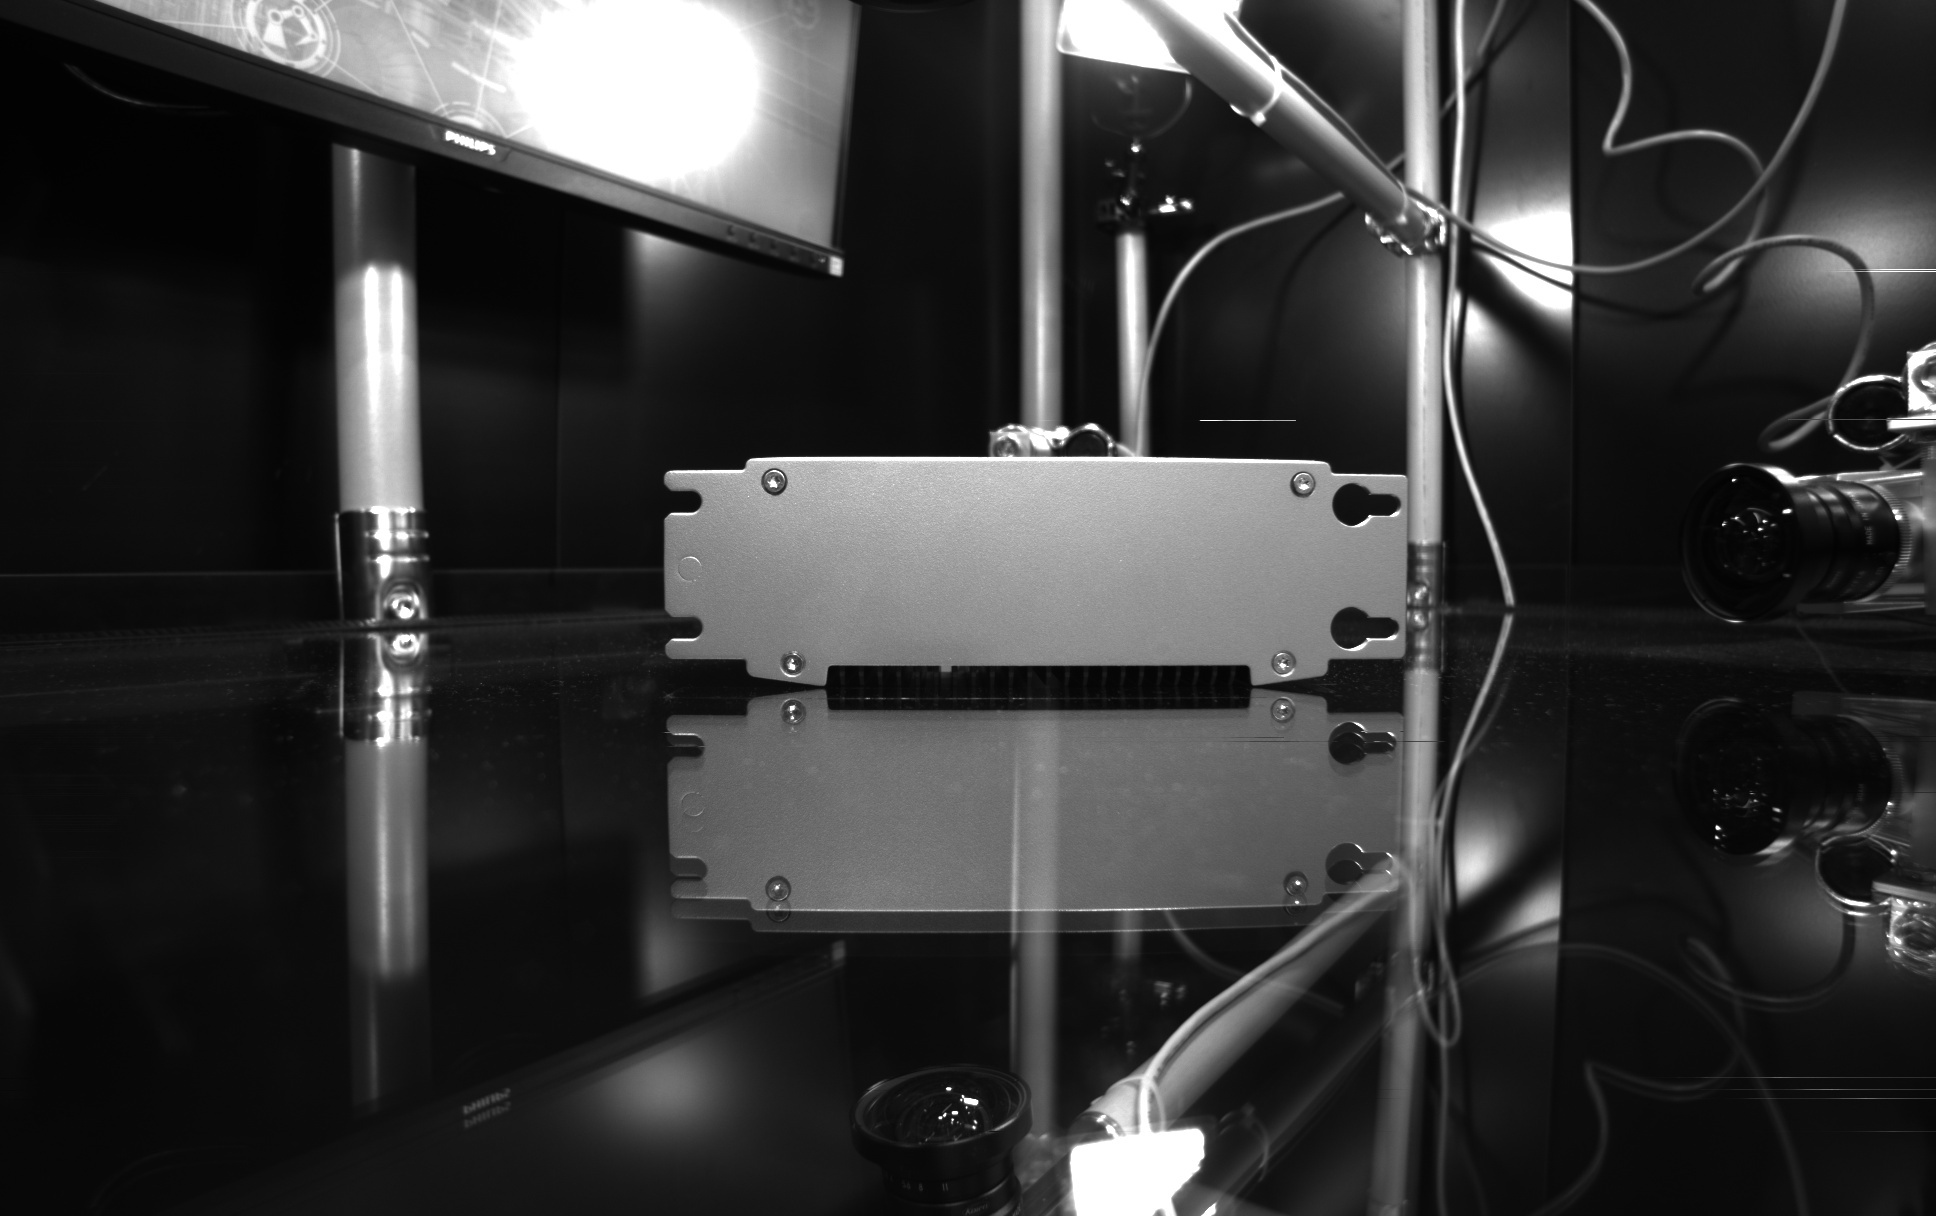CamBack: (632, 434, 1434, 693)
Schraube: (1264, 643, 1301, 684), (773, 644, 811, 682)
Schraube_gespiegelt: (1276, 864, 1315, 927), (1264, 695, 1303, 758), (761, 869, 798, 932), (775, 695, 813, 758)
Schraube_halb: (754, 462, 791, 502), (1285, 467, 1322, 504)
